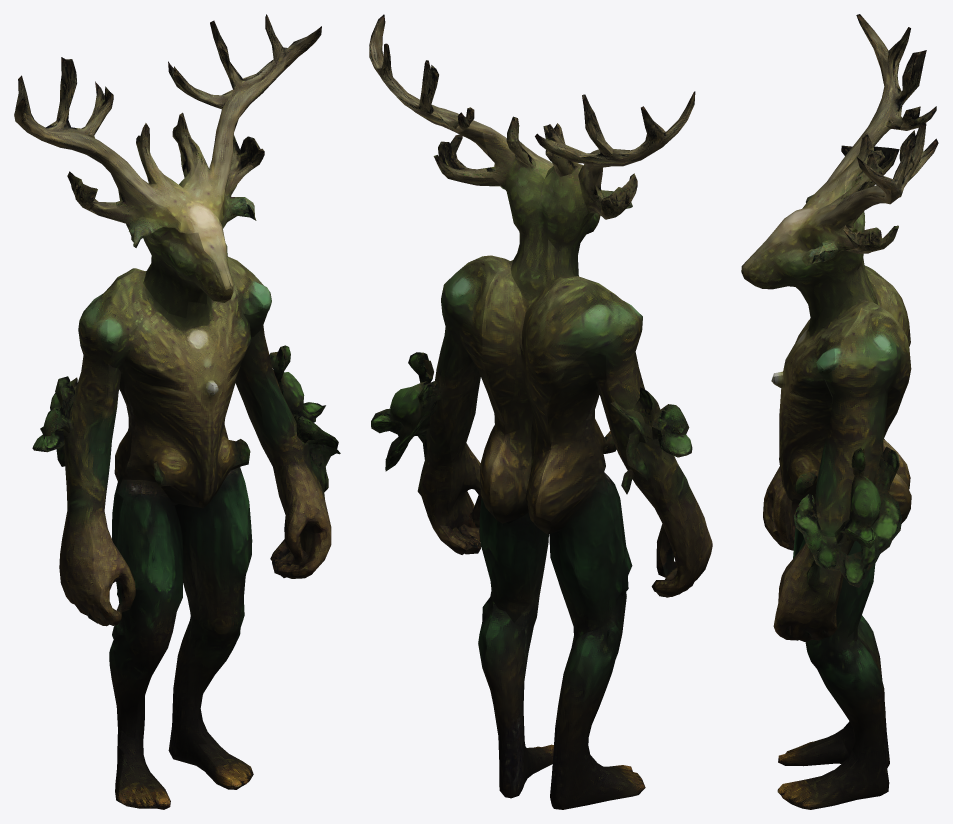
Rendered from nature_deity.fbx.
3 views of the same model, side by side, from view 1: azimuth 30°, elevation 25°; view 2: azimuth 150°, elevation 25°; view 3: azimuth 270°, elevation 25° (orthographic). The views are drawn at different scales.
Parts seen in each view (by area): view 1: geometry_0; view 2: geometry_0; view 3: geometry_0.
Boxes of the visible parts, x1,y1,x2,y2 form: geometry_0: (14, 14, 340, 809); geometry_0: (369, 14, 712, 809); geometry_0: (741, 14, 938, 809).
Size of the model in its own units: 1802 by 3965 by 1012.
